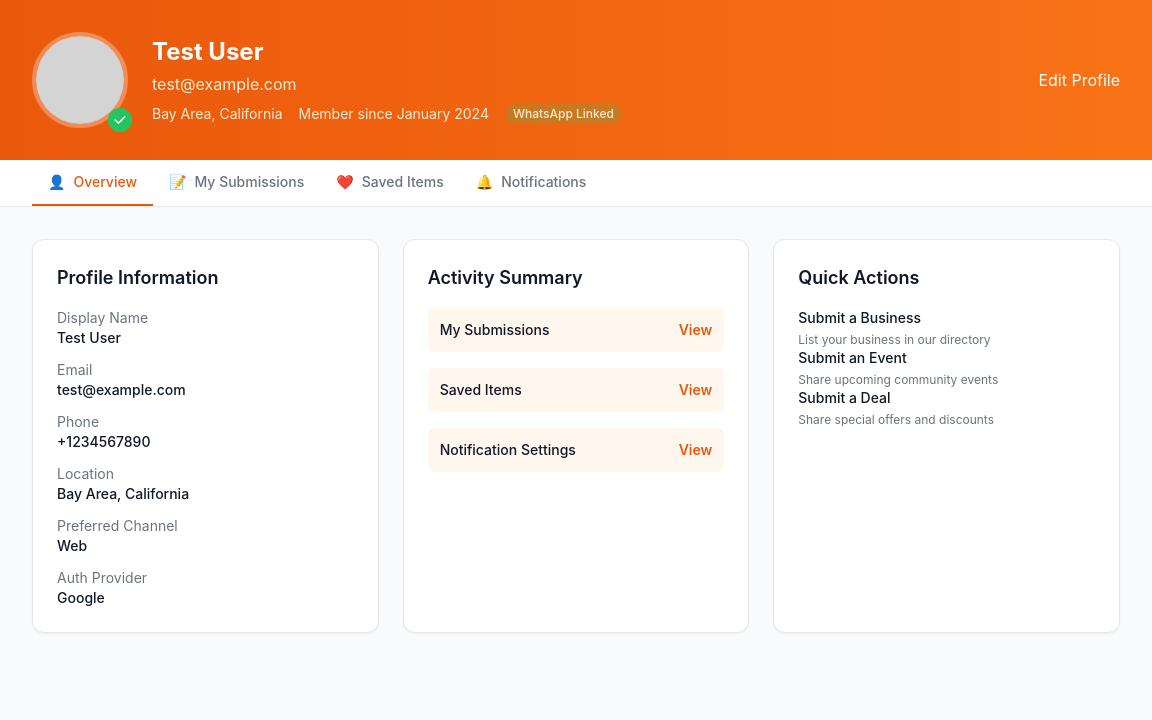
Test: ProfilePage › Submissions Tab › displays submitted submissions
This screenshot has width=1152, height=720.
Click the tab "📝 My Submissions": (237, 183) left=153, top=160, right=320, bottom=206
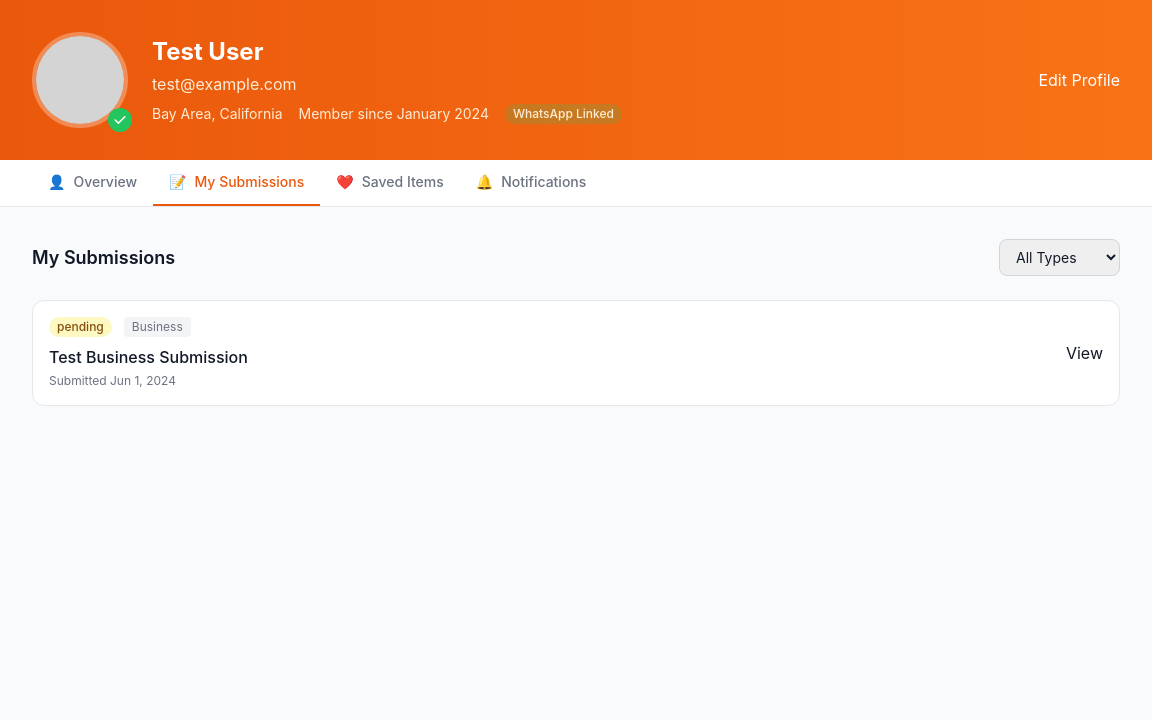
Now the heading "Test Business Submission" is shown, box left=49, top=347, right=248, bottom=367
